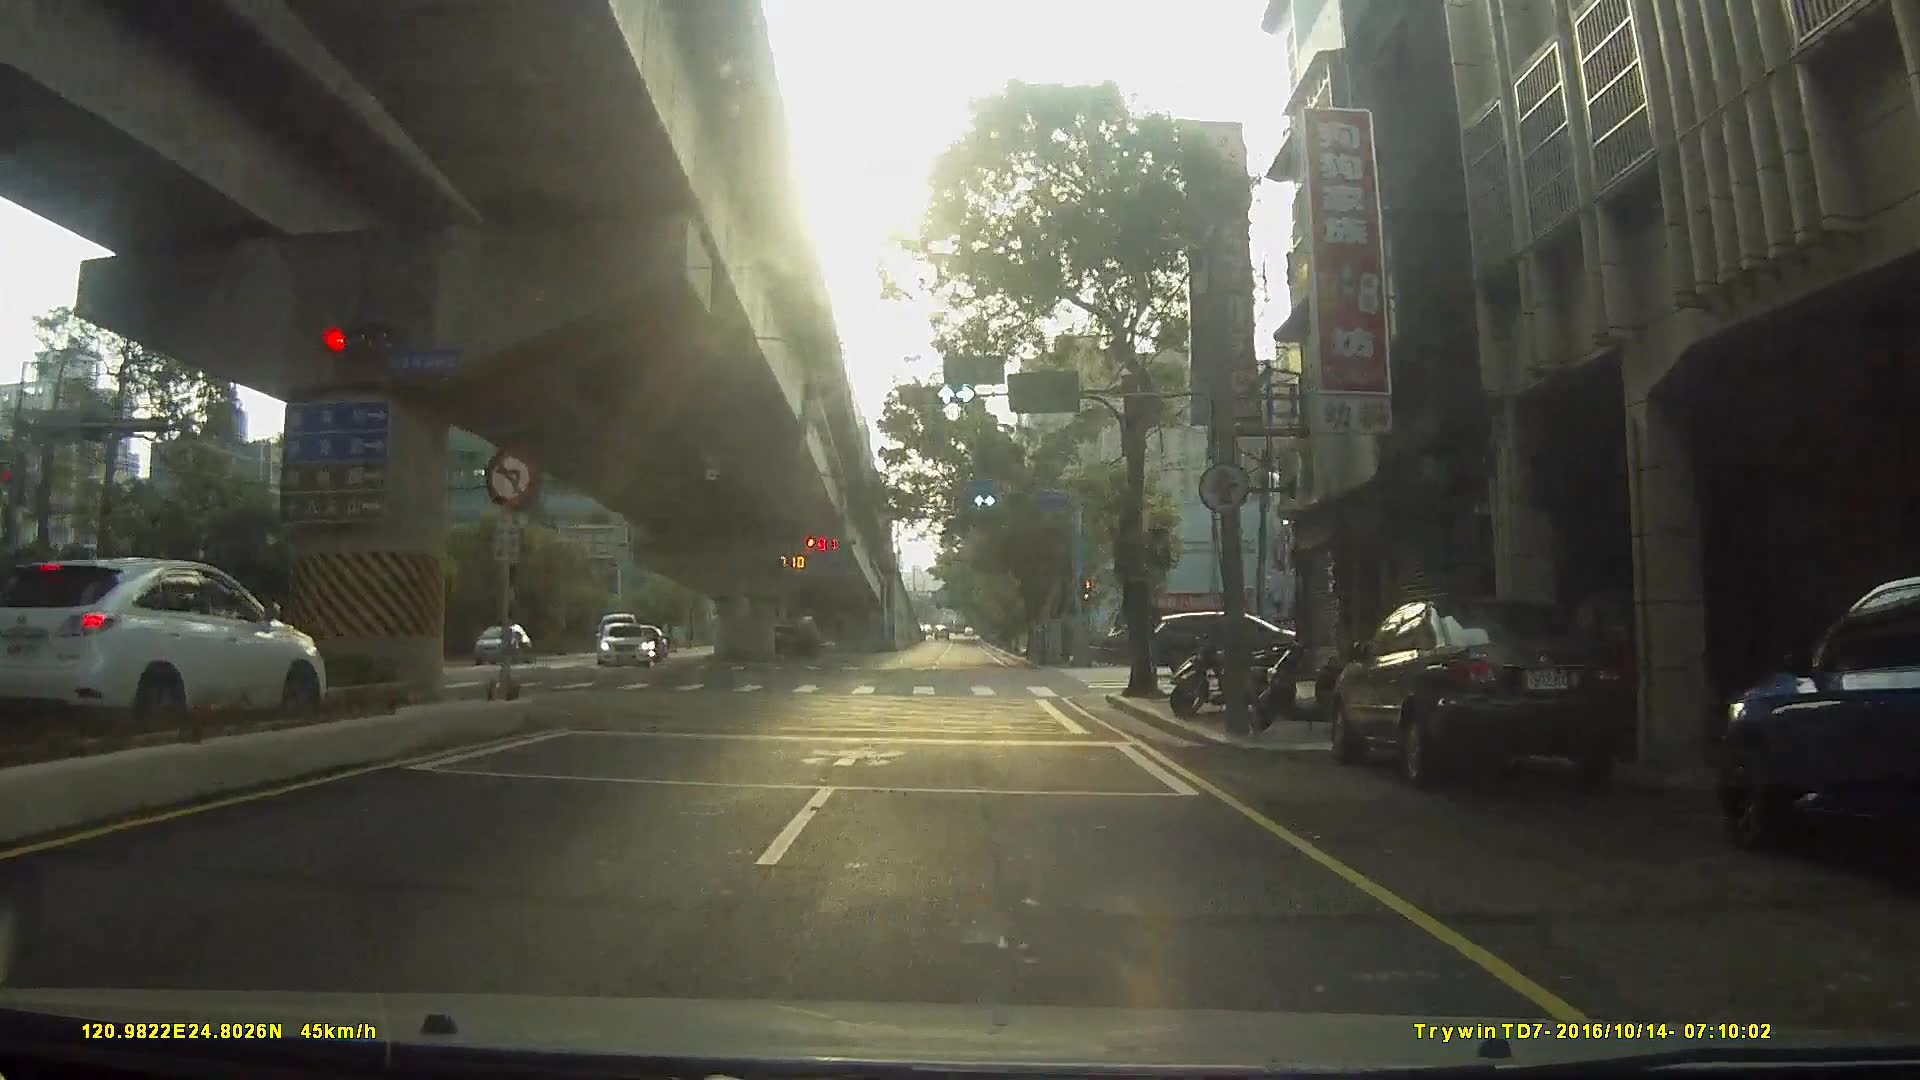vehicle: (1320, 593, 1662, 800), (1712, 572, 1920, 881), (1, 549, 338, 738), (1156, 611, 1309, 673), (756, 618, 820, 659), (465, 622, 526, 666), (592, 622, 647, 669)
